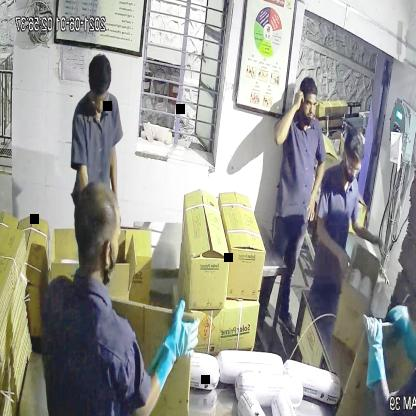goggles: (341, 149, 363, 177)
